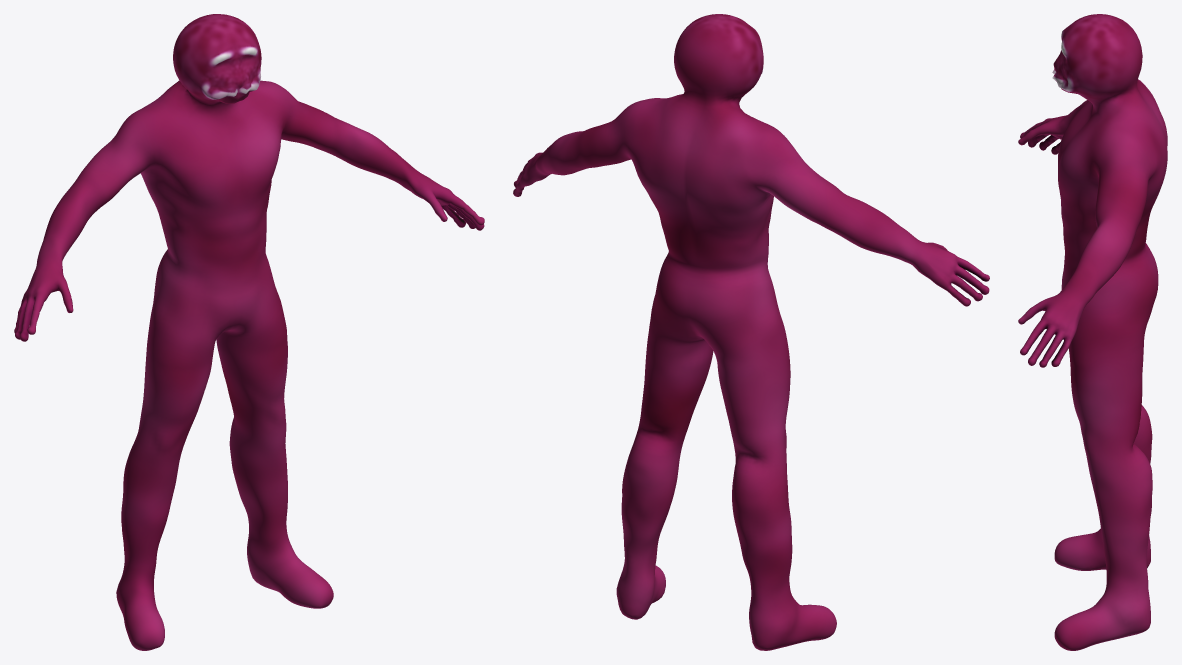
File: temp_guy.obj
3 views of the same model, side by side, from view 1: azimuth 30°, elevation 25°; view 2: azimuth 150°, elevation 25°; view 3: azimuth 270°, elevation 25° (orthographic). The views are drawn at different scales.
Parts seen in each view (by area): view 1: ZBrush_defualt_group; view 2: ZBrush_defualt_group; view 3: ZBrush_defualt_group.
Boxes of the visible parts, bbox=[...] form: ZBrush_defualt_group: bbox=[14, 14, 484, 650]; ZBrush_defualt_group: bbox=[513, 14, 989, 650]; ZBrush_defualt_group: bbox=[1018, 14, 1167, 650].
Bounding box in the file's own units: 32.59 × 40.32 × 9.27.
Materials: 1 (1 with a texture image).
